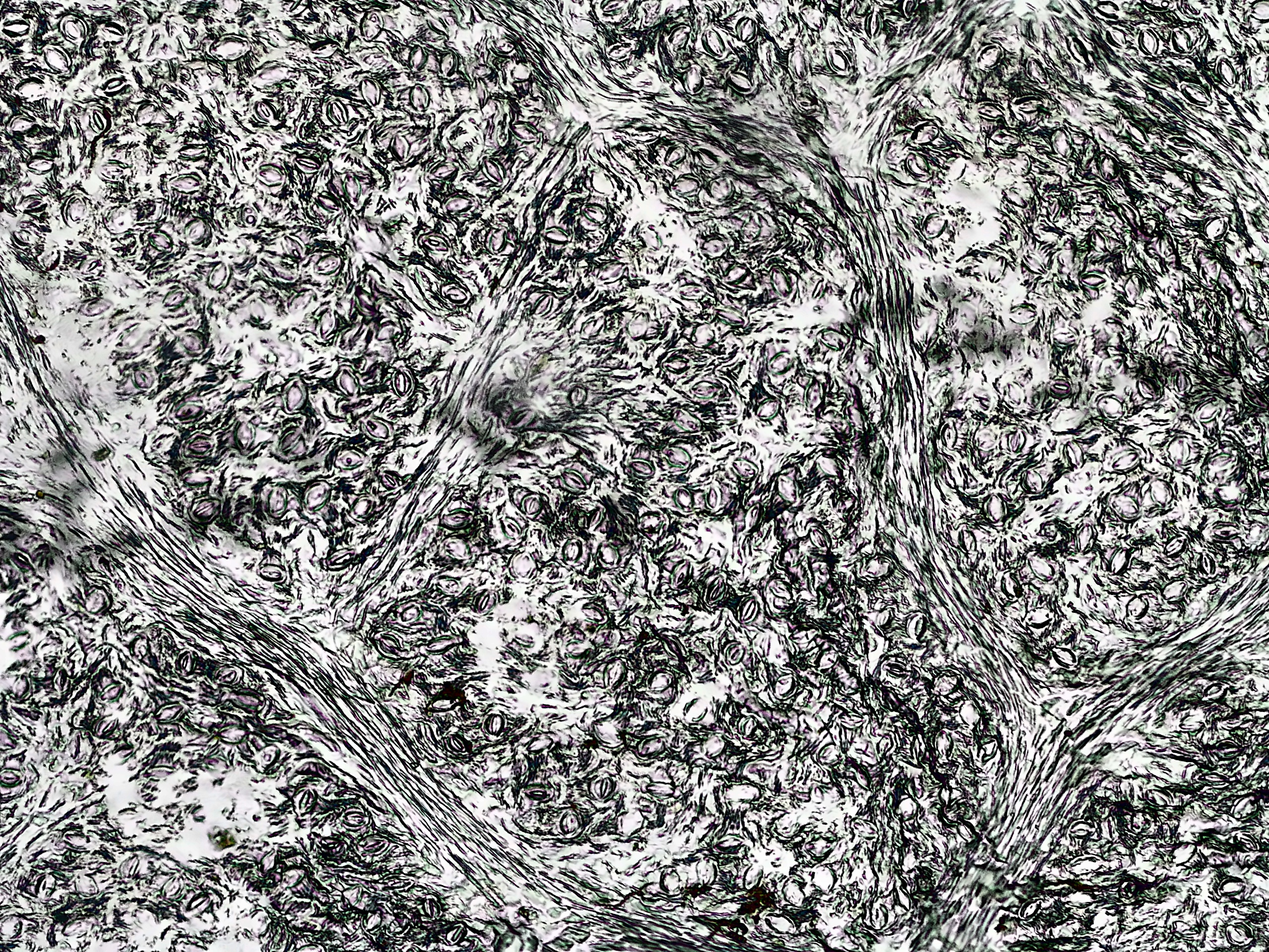stomata: (205, 31, 250, 61), (141, 430, 178, 462), (860, 555, 899, 584), (762, 909, 801, 938), (1206, 447, 1240, 480), (60, 824, 100, 852), (592, 2, 642, 24), (1050, 408, 1092, 434), (1063, 855, 1109, 878), (1165, 434, 1198, 466), (89, 710, 121, 743), (441, 193, 481, 219), (719, 780, 762, 804), (354, 832, 392, 859), (662, 559, 696, 589), (1025, 553, 1059, 583), (1069, 518, 1096, 555), (1106, 496, 1143, 523), (1159, 579, 1197, 605), (983, 493, 1012, 527), (1064, 32, 1093, 66), (227, 692, 269, 715), (43, 44, 73, 76), (1200, 679, 1232, 709), (352, 285, 384, 315), (263, 264, 303, 288), (918, 212, 952, 240), (656, 630, 691, 657), (113, 854, 143, 885), (317, 308, 345, 341), (1058, 890, 1102, 911), (358, 73, 385, 107), (1220, 922, 1255, 948), (1211, 876, 1252, 898), (484, 226, 514, 256), (438, 505, 474, 530), (911, 118, 942, 147), (824, 43, 852, 75), (252, 742, 280, 774), (373, 629, 406, 656), (60, 915, 94, 941), (1177, 81, 1212, 106), (974, 736, 999, 771), (814, 330, 852, 353), (59, 197, 90, 225), (1105, 450, 1141, 474), (177, 468, 218, 489), (1143, 784, 1176, 810), (659, 139, 687, 169), (1096, 393, 1126, 421), (424, 691, 464, 712), (594, 720, 624, 748), (1149, 479, 1176, 510), (508, 119, 540, 145), (802, 378, 828, 410), (575, 598, 608, 623), (711, 833, 744, 858), (1009, 96, 1050, 116), (1167, 917, 1201, 941), (333, 369, 362, 397), (1025, 57, 1053, 86), (865, 902, 893, 931), (233, 422, 260, 452), (699, 29, 726, 59), (1107, 547, 1137, 574), (1135, 375, 1165, 402), (1115, 200, 1145, 227), (361, 417, 392, 443), (768, 267, 794, 298), (182, 891, 213, 917), (511, 549, 534, 584), (714, 303, 749, 326), (326, 547, 358, 572), (210, 723, 248, 744), (422, 635, 466, 653), (974, 44, 1007, 68), (387, 366, 415, 394), (443, 538, 471, 566), (58, 15, 87, 42), (589, 170, 618, 197), (663, 445, 692, 472), (941, 154, 970, 181), (785, 47, 808, 81), (1206, 518, 1240, 541), (149, 700, 183, 723), (104, 209, 134, 235), (165, 170, 204, 190), (637, 511, 667, 537), (647, 671, 677, 697), (1207, 739, 1246, 759), (982, 254, 1008, 284), (5, 704, 46, 723), (765, 579, 796, 604), (998, 571, 1023, 602), (282, 382, 306, 414), (625, 456, 657, 480), (904, 153, 936, 177), (81, 591, 114, 614), (182, 217, 210, 244), (726, 68, 754, 95), (704, 575, 731, 603), (1006, 302, 1042, 323), (735, 713, 762, 741), (323, 99, 352, 125), (773, 474, 799, 503), (1124, 121, 1153, 147), (263, 489, 288, 519), (558, 470, 588, 495), (1046, 375, 1076, 400), (1135, 26, 1160, 56), (694, 859, 719, 889), (12, 77, 46, 99), (187, 498, 218, 522), (669, 173, 700, 197), (680, 64, 704, 95), (1018, 253, 1049, 277), (997, 186, 1028, 210), (763, 353, 795, 376), (879, 656, 911, 679), (937, 419, 960, 451), (314, 836, 346, 859), (846, 816, 881, 837), (935, 728, 956, 763), (305, 482, 332, 509), (933, 671, 960, 698), (279, 234, 307, 260), (178, 328, 204, 356), (1020, 469, 1046, 497), (15, 193, 48, 215), (580, 201, 613, 223), (594, 260, 627, 282), (906, 611, 928, 644), (69, 872, 98, 897), (615, 809, 644, 834), (2, 114, 38, 134), (292, 788, 316, 818), (720, 265, 751, 288), (437, 282, 469, 304), (1062, 440, 1084, 472), (975, 101, 1007, 123), (341, 173, 367, 200), (481, 157, 507, 184), (579, 314, 606, 340), (808, 525, 834, 552), (375, 874, 414, 892), (681, 697, 707, 724), (770, 673, 797, 699), (658, 352, 693, 372), (408, 83, 432, 112), (741, 863, 765, 892), (1230, 796, 1259, 820), (359, 10, 382, 40), (1231, 831, 1261, 854), (1050, 645, 1081, 667), (1125, 597, 1151, 623), (420, 894, 445, 921), (811, 865, 836, 892), (255, 163, 283, 187), (753, 396, 781, 420), (658, 868, 682, 896), (1152, 231, 1176, 259), (647, 774, 676, 797), (0, 20, 35, 39), (77, 296, 112, 315), (1195, 400, 1228, 420), (97, 680, 127, 702), (838, 709, 869, 730), (581, 505, 607, 530), (1169, 27, 1193, 54), (291, 154, 325, 173), (1076, 271, 1110, 290), (1195, 771, 1233, 788), (147, 229, 175, 252), (1051, 131, 1074, 159), (590, 777, 619, 799), (741, 502, 763, 531), (700, 237, 730, 258), (211, 664, 241, 685), (341, 808, 371, 829), (522, 784, 555, 803), (1204, 216, 1229, 241), (812, 646, 837, 671), (1162, 533, 1186, 559), (780, 882, 806, 906), (1000, 380, 1024, 406), (314, 192, 341, 215), (954, 529, 981, 552), (974, 425, 997, 452), (1006, 426, 1029, 453), (155, 874, 182, 897), (332, 447, 363, 467), (1015, 897, 1046, 917), (420, 232, 448, 254), (30, 875, 58, 897), (735, 15, 756, 44), (637, 737, 666, 758), (374, 321, 403, 342), (25, 153, 57, 172), (182, 439, 214, 458), (729, 457, 759, 477), (671, 487, 695, 512), (1050, 327, 1080, 347), (668, 24, 691, 50), (519, 494, 545, 517), (595, 543, 618, 569), (724, 641, 750, 664), (816, 742, 839, 768), (208, 263, 230, 290), (1165, 136, 1198, 154), (311, 37, 339, 58), (559, 538, 583, 562), (265, 27, 288, 52), (1103, 26, 1126, 51), (85, 109, 111, 131), (737, 595, 759, 621), (773, 816, 799, 838), (407, 45, 426, 75), (541, 226, 571, 245), (99, 21, 126, 42), (433, 574, 460, 595), (1217, 59, 1238, 86), (441, 733, 468, 754), (864, 10, 884, 38), (686, 382, 721, 398), (677, 283, 708, 301), (1025, 611, 1056, 629), (793, 93, 817, 116), (429, 160, 458, 179), (509, 408, 538, 427), (315, 254, 340, 276), (51, 670, 73, 695), (483, 711, 505, 736), (134, 102, 155, 128), (175, 142, 207, 159), (394, 604, 421, 624), (556, 813, 583, 833), (527, 737, 555, 756), (253, 100, 276, 123), (277, 429, 300, 452), (472, 588, 494, 612), (710, 177, 734, 199), (705, 482, 721, 515), (601, 657, 625, 679), (1201, 259, 1221, 285), (1173, 369, 1193, 395), (438, 51, 457, 78), (607, 44, 634, 63), (1125, 275, 1144, 302), (553, 664, 580, 683), (135, 368, 157, 391), (694, 147, 717, 169), (807, 278, 829, 301), (476, 486, 504, 504), (1197, 551, 1218, 575), (1098, 155, 1119, 179), (893, 799, 917, 820), (349, 498, 374, 518), (876, 732, 896, 757), (569, 385, 588, 411), (103, 75, 130, 93), (488, 37, 515, 55), (388, 135, 409, 158), (530, 295, 553, 316), (11, 549, 34, 570), (703, 735, 724, 758), (257, 562, 283, 580), (1067, 822, 1096, 838), (173, 403, 206, 417), (988, 129, 1021, 143), (445, 923, 466, 945), (1175, 335, 1198, 355), (83, 253, 102, 277), (1175, 718, 1205, 733), (510, 633, 536, 650), (911, 732, 925, 763), (99, 160, 124, 177), (1, 767, 21, 788), (957, 820, 978, 840), (15, 229, 40, 245), (379, 470, 399, 490), (503, 519, 523, 539), (161, 289, 182, 308), (177, 651, 193, 675), (1120, 879, 1141, 897), (1046, 196, 1061, 221), (1204, 309, 1220, 331), (470, 64, 493, 79), (938, 783, 953, 804)
